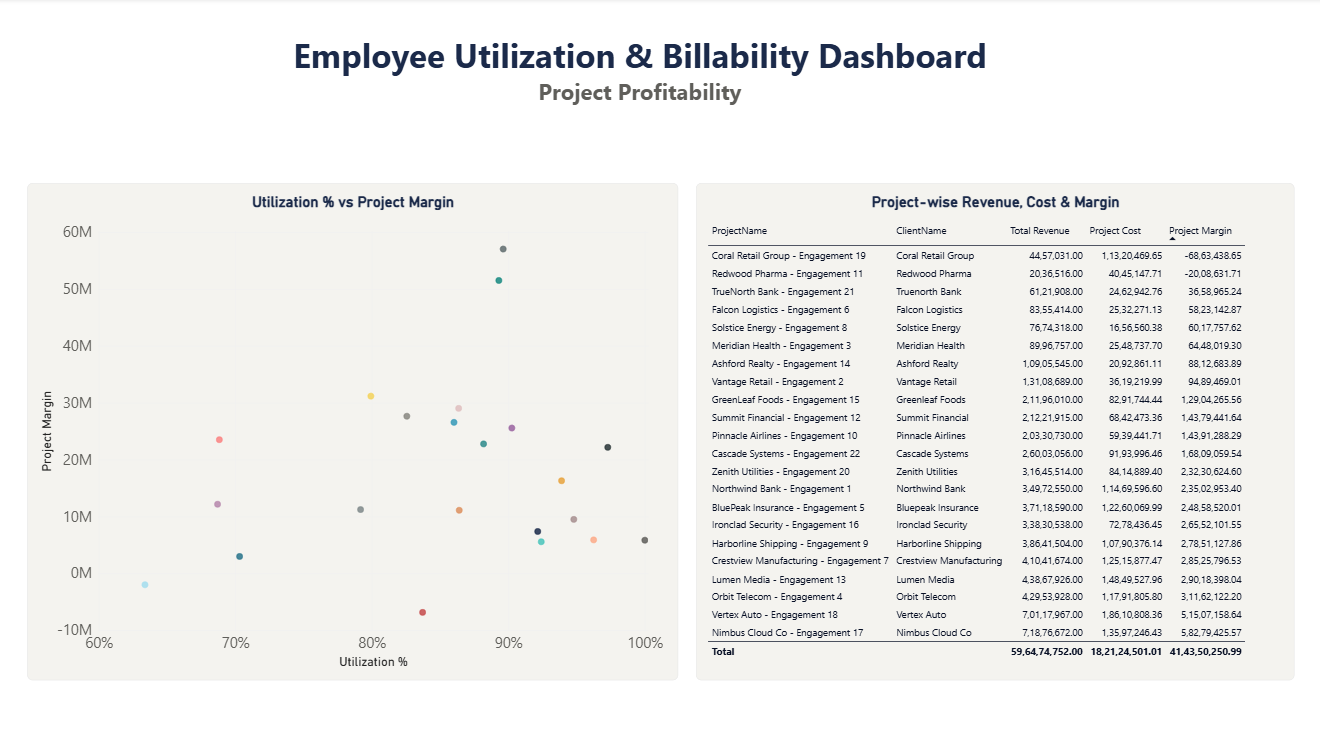

Layout of this report page (visuals, bound fields, positions):
{"tool":"powerbi","page":{"name":"Page 4","canvas":[1920,1080],"ordinal":3},"visuals":[{"type":"scatterChart","title":"Utilization % vs Project Margin","fields":{"Series":["Project.ProjectName"],"X":["Measure.Utilization %"],"Y":["Measure.Project Margin"]},"box":[46,268,942,720],"z":1000},{"type":"textbox","box":[42.6,48.1,1777.8,137],"z":2000},{"type":"tableEx","title":"Project-wise Revenue, Cost & Margin","fields":{"Values":["Project.ProjectName","Project.ClientName","Measure.Total Revenue","Measure.Project Cost","Measure.Project Margin"]},"box":[1014,268,866,720],"z":10000}]}

Visuals, with their boxes in screenshot pixels (x1, y1, x2, y2), scaled from the page's 1920x1080 canvas onto the 1320x741 screenshot:
"Utilization % vs Project Margin" scatterChart: [left=32, top=184, right=679, bottom=678]
textbox: [left=29, top=33, right=1252, bottom=127]
"Project-wise Revenue, Cost & Margin" tableEx: [left=697, top=184, right=1292, bottom=678]
